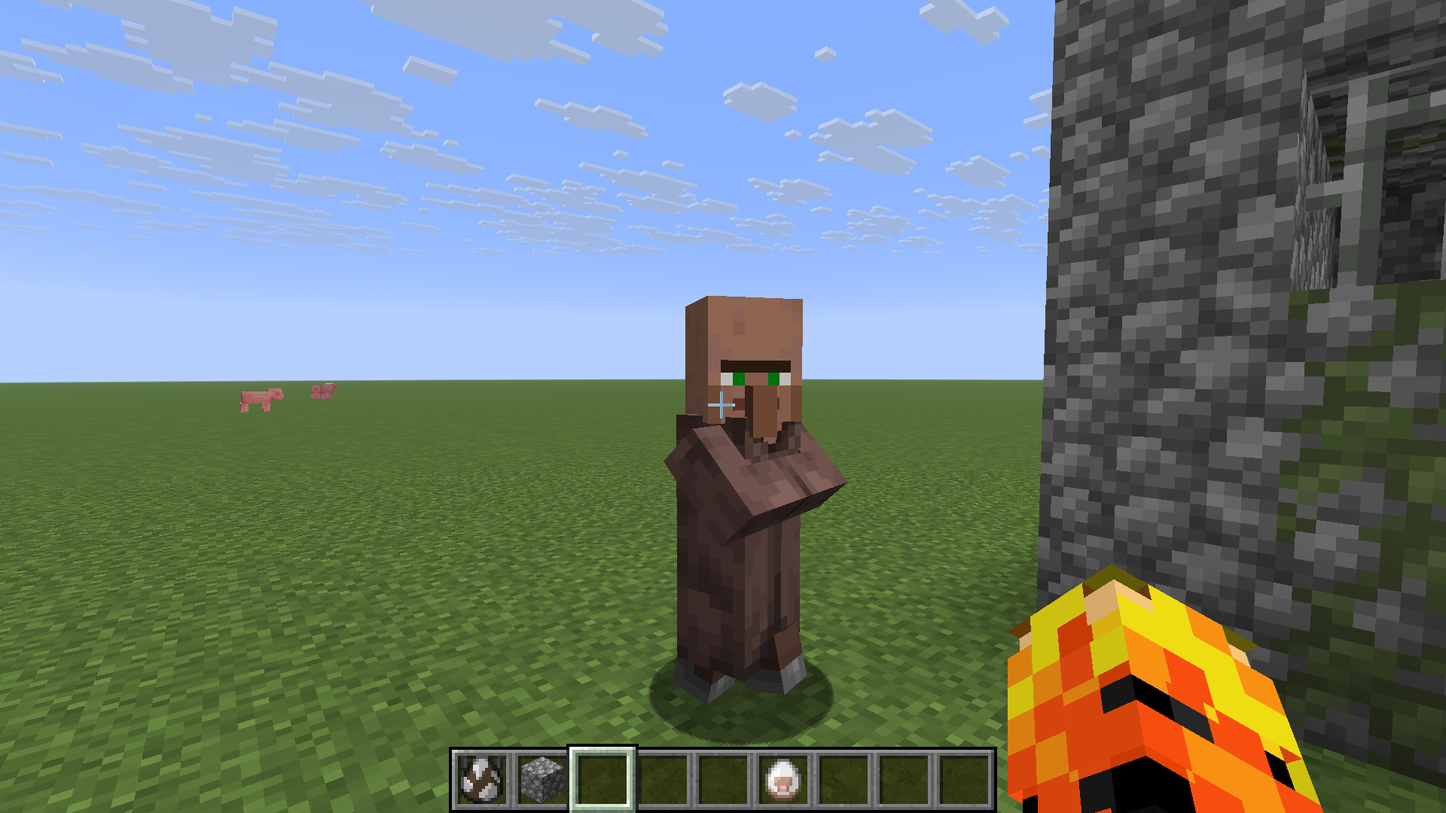cablestone: (1054, 124, 1299, 335), (1045, 350, 1283, 542)
villager: (667, 282, 828, 720)
